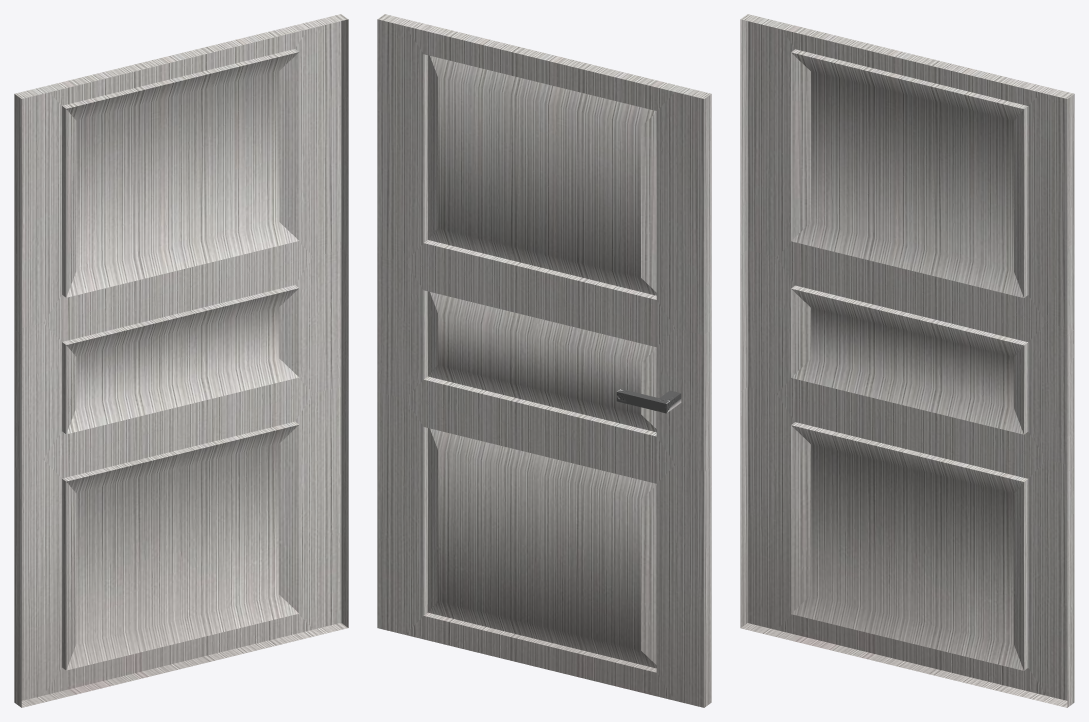
3 views of the same model, side by side, from view 1: azimuth 30°, elevation 25°; view 2: azimuth 150°, elevation 25°; view 3: azimuth 330°, elevation 25° (orthographic).
Visible parts, largest first — view 1: Door V2; view 2: Door V2; view 3: Door V2.
Part boxes in pixels (x1,y1,x2,y2): Door V2: (14,14,348,707); Door V2: (377,14,711,707); Door V2: (740,14,1074,707).
Bounding box in the file's own units: 1.19 × 2.12 × 0.1391.
Materials: 1 (1 with a texture image).
